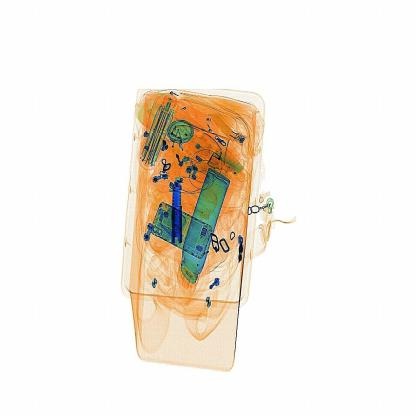pliers: (167, 178, 188, 250)
